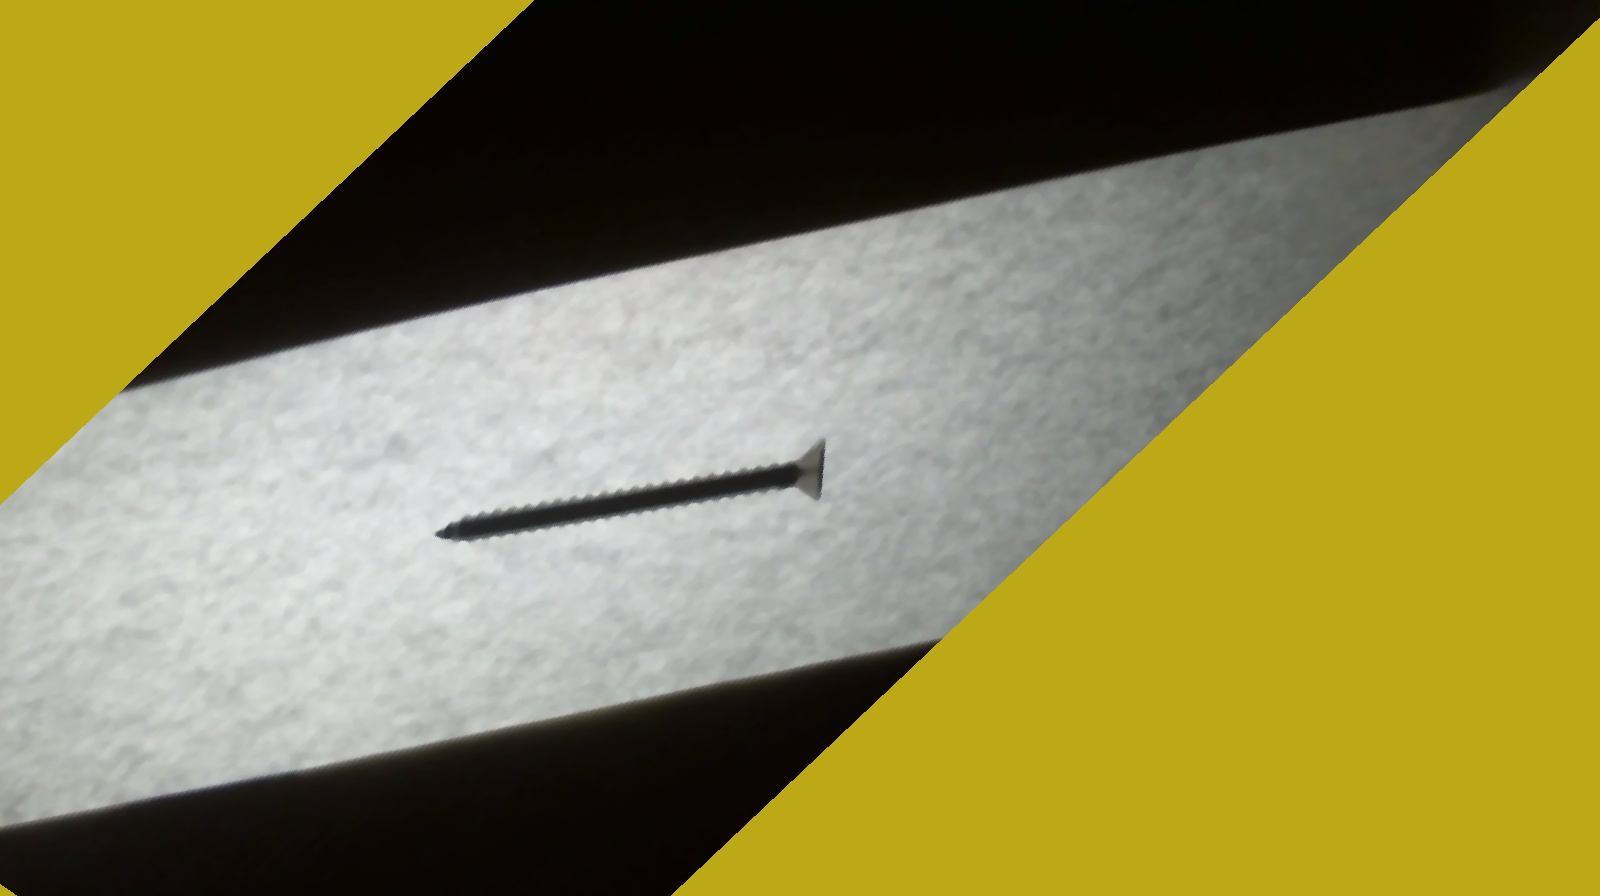S002: (396, 299, 875, 692)
